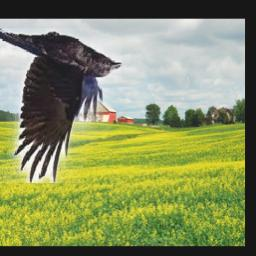Crow: (0, 28, 123, 183)
